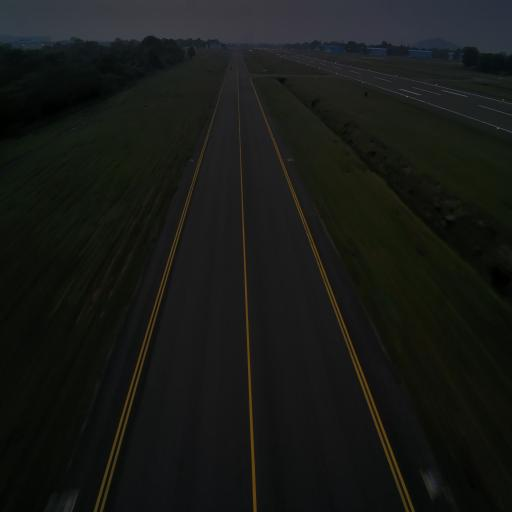on: (427, 466, 439, 491), (288, 156, 290, 160), (210, 106, 212, 110), (266, 107, 268, 110), (191, 157, 192, 160)
